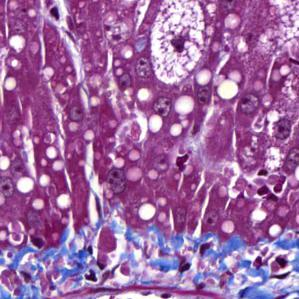ballooning: (149, 4, 210, 87)
